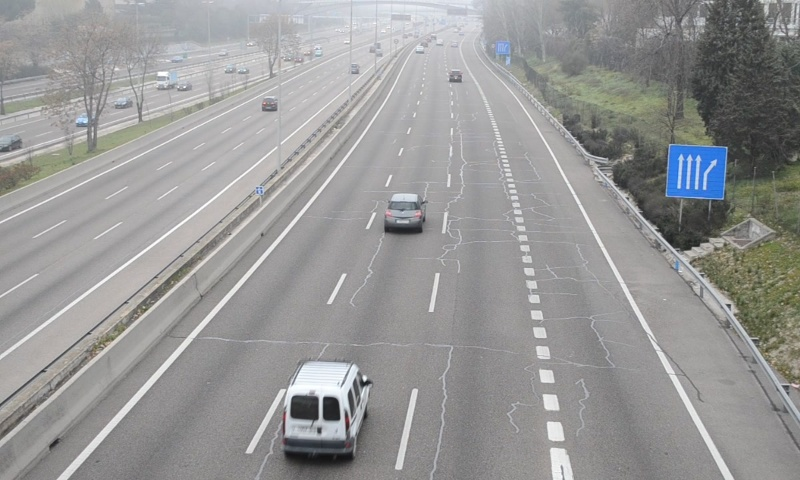car: (384, 192, 425, 228)
van: (281, 361, 369, 456)
